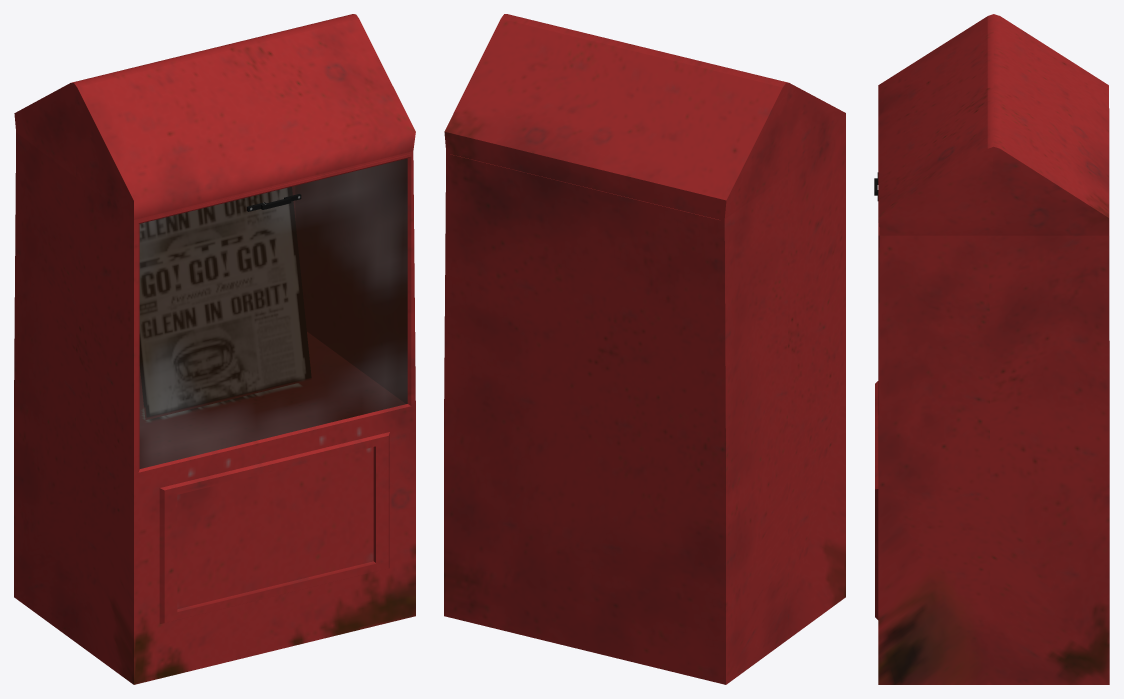
The model's file is newsStand.glb.
3 views of the same model, side by side, from view 1: azimuth 30°, elevation 25°; view 2: azimuth 150°, elevation 25°; view 3: azimuth 270°, elevation 25° (orthographic). The views are drawn at different scales.
Parts seen in each view (by area): view 1: SM_StandNews; view 2: SM_StandNews; view 3: SM_StandNews.
Part boxes in pixels (bbox=[...]): SM_StandNews: bbox=[14, 14, 415, 684]; SM_StandNews: bbox=[444, 14, 845, 684]; SM_StandNews: bbox=[874, 14, 1109, 684].
Size of the model in its own units: 0.4635 by 0.8764 by 0.3469.
2 materials, 2 textured.
